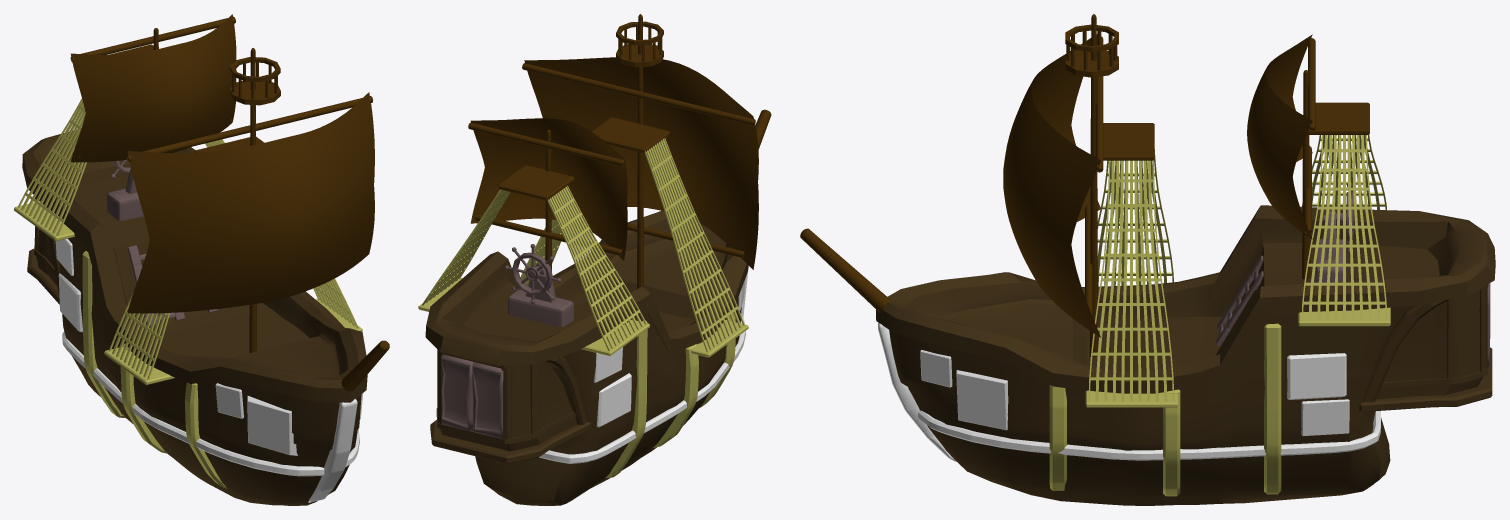
File: ShipTier3.fbx
3 renders of one model, left to right at view 1: azimuth 30°, elevation 25°; view 2: azimuth 150°, elevation 25°; view 3: azimuth 270°, elevation 25°, orthographic. The views are drawn at different scales.
Visible parts, largest first — view 1: pCylinder144, polySurface29, polySurface20, pCube48, polySurface57, pCylinder143; view 2: polySurface29, pCylinder144, polySurface20, pCube48, polySurface57, polySurface58, polySurface59, pCylinder143; view 3: polySurface29, pCylinder144, polySurface20, pCube48, polySurface57, pCylinder143.
Boxes of the visible parts, x1=… form: pCylinder144: x1=70, y1=14, x2=389, y2=391; polySurface29: x1=22, y1=130, x2=367, y2=505; polySurface20: x1=14, y1=98, x2=362, y2=488; pCube48: x1=55, y1=238, x2=363, y2=502; polySurface57: x1=107, y1=160, x2=217, y2=326; pCylinder143: x1=230, y1=57, x2=280, y2=105; polySurface29: x1=425, y1=210, x2=748, y2=505; pCylinder144: x1=468, y1=14, x2=771, y2=288; polySurface20: x1=418, y1=138, x2=748, y2=477; pCube48: x1=539, y1=272, x2=747, y2=463; polySurface57: x1=504, y1=244, x2=573, y2=326; polySurface58: x1=441, y1=354, x2=473, y2=431; polySurface59: x1=472, y1=362, x2=503, y2=439; pCylinder143: x1=616, y1=21, x2=663, y2=67; polySurface29: x1=876, y1=205, x2=1495, y2=505; pCylinder144: x1=800, y1=14, x2=1369, y2=357; polySurface20: x1=1049, y1=134, x2=1390, y2=496; pCube48: x1=878, y1=322, x2=1380, y2=461; polySurface57: x1=1216, y1=182, x2=1353, y2=346; pCylinder143: x1=1065, y1=24, x2=1118, y2=77.
Size of the model in its own units: 5.21 by 9.03 by 11.79.
